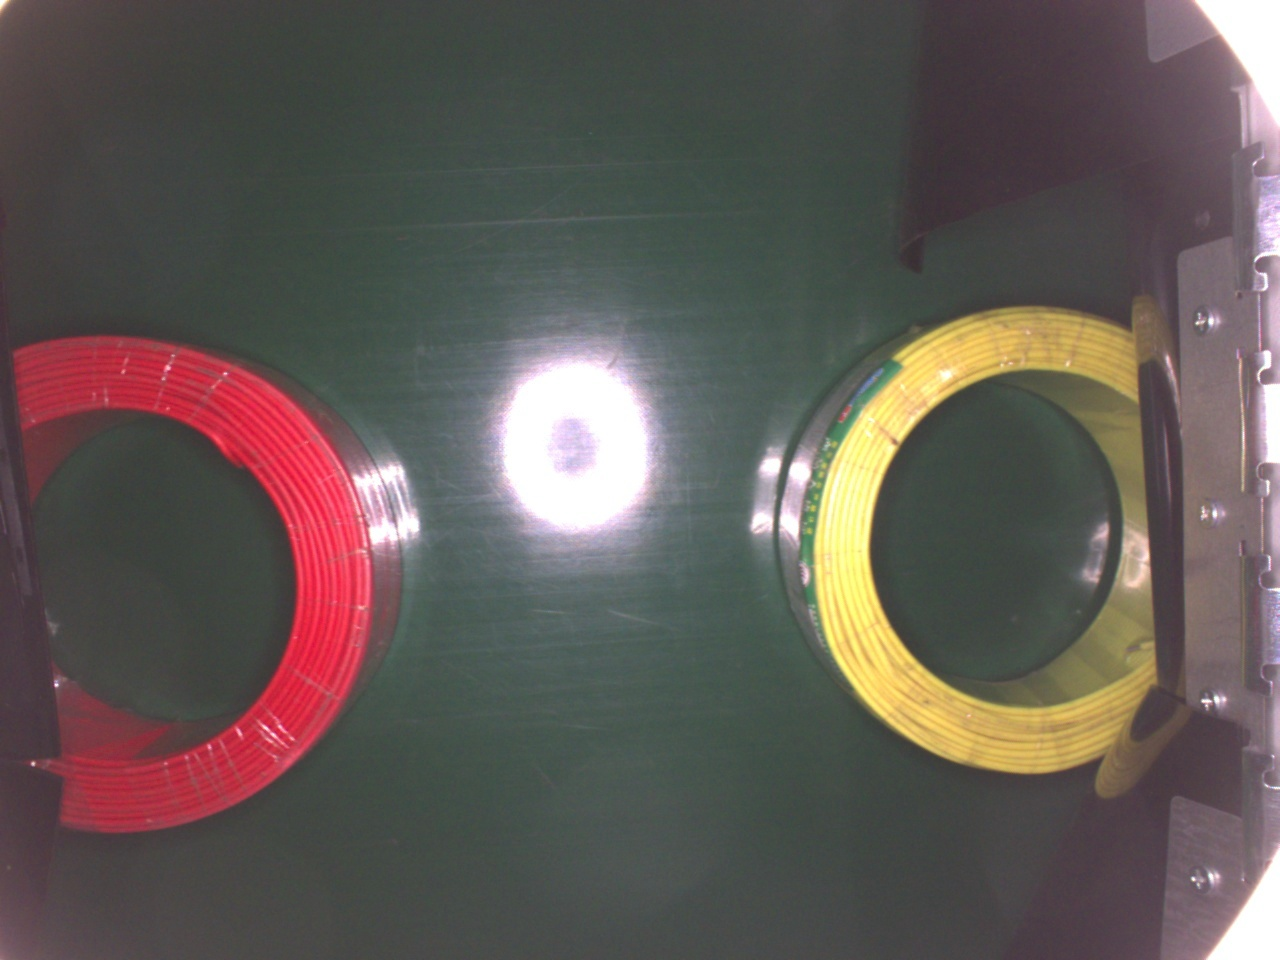red: (0, 326, 408, 843)
yellow: (772, 299, 1158, 777)
